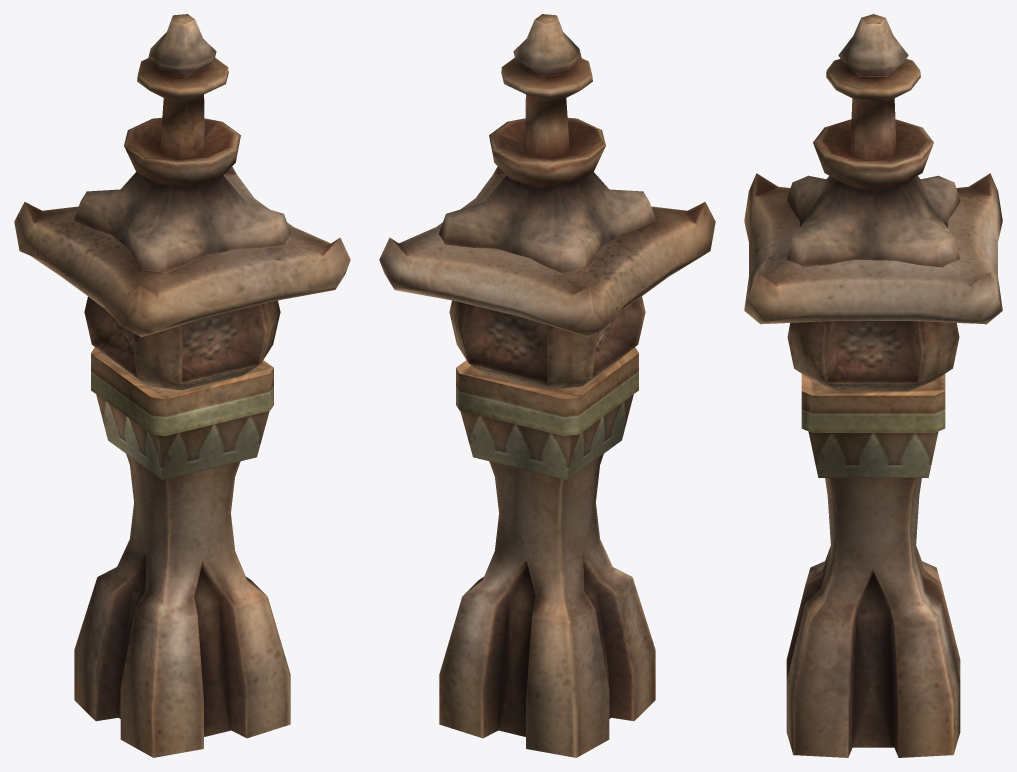
Rendered from gardensculpture.FBX.
3 renders of one model, left to right at view 1: azimuth 30°, elevation 25°; view 2: azimuth 150°, elevation 25°; view 3: azimuth 270°, elevation 25°, orthographic.
Parts seen in each view (by area): view 1: gardensculpture; view 2: gardensculpture; view 3: gardensculpture.
Boxes of the visible parts, x1,y1,x2,y2 form: gardensculpture: (14, 14, 350, 757); gardensculpture: (379, 14, 715, 757); gardensculpture: (744, 14, 1002, 757).
Bounding box in the file's own units: 29.28 × 87.65 × 29.28.
